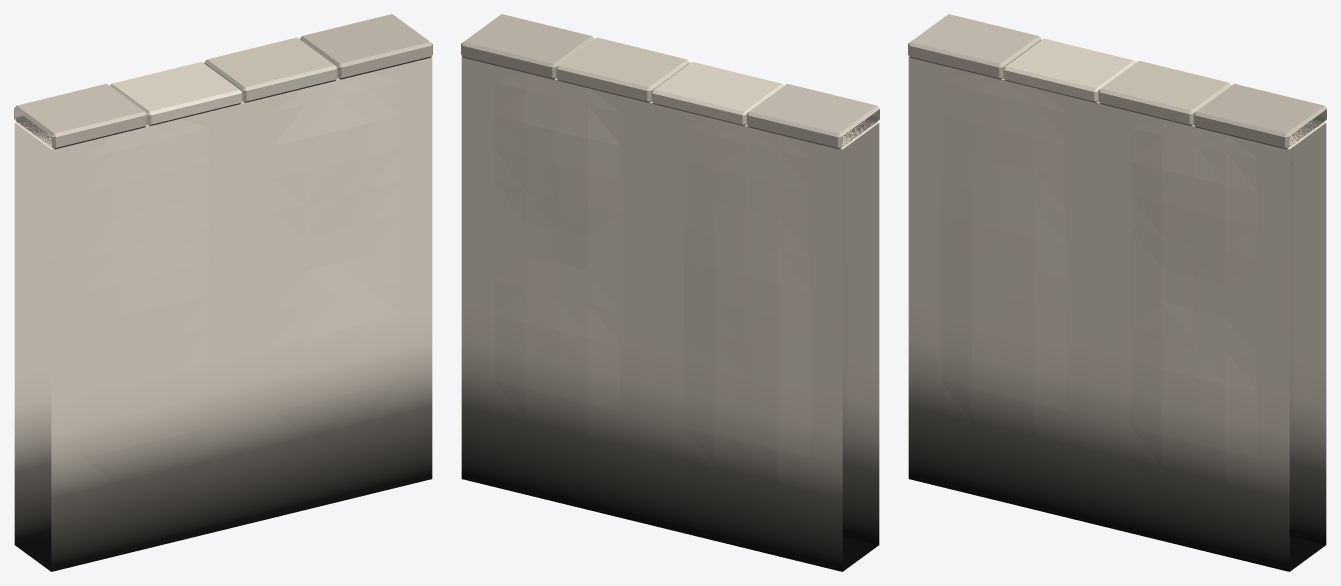
The model's file is SM_VKI_Wall_Dungeon_Plain_300_Full.fbx.
The picture shows the model from 3 angles, left to right: view 1: azimuth 30°, elevation 25°; view 2: azimuth 150°, elevation 25°; view 3: azimuth 330°, elevation 25°; orthographic projection.
Parts seen in each view (by area): view 1: SM_VKI_Wall_Dungeon_Plain_300_Full.001; view 2: SM_VKI_Wall_Dungeon_Plain_300_Full.001; view 3: SM_VKI_Wall_Dungeon_Plain_300_Full.001.
Part boxes in pixels (x1,y1,x2,y2): SM_VKI_Wall_Dungeon_Plain_300_Full.001: [14, 14, 432, 571]; SM_VKI_Wall_Dungeon_Plain_300_Full.001: [461, 14, 879, 571]; SM_VKI_Wall_Dungeon_Plain_300_Full.001: [908, 14, 1326, 571].
Bounding box in the file's own units: 3 × 3.3 × 0.56.
